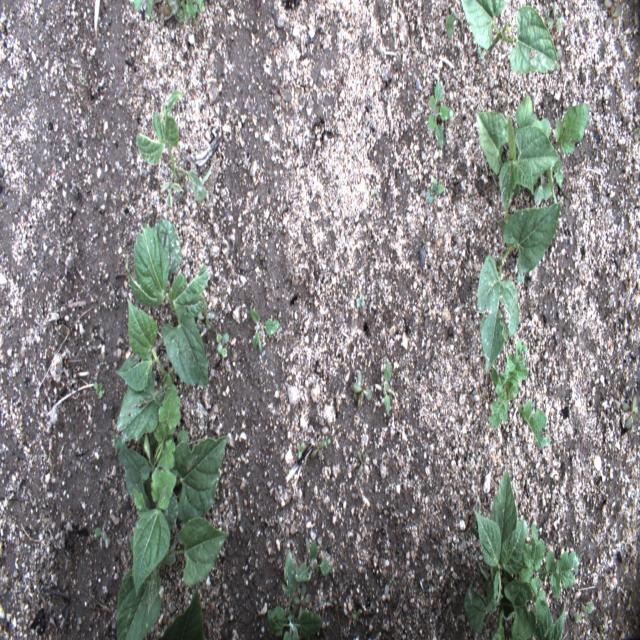crop: (110, 428, 228, 639), (478, 200, 561, 376), (124, 219, 209, 388), (464, 470, 536, 640), (136, 90, 222, 208), (474, 111, 560, 216), (115, 298, 169, 446), (460, 0, 560, 74), (160, 587, 203, 639), (534, 597, 565, 639)
weed: (512, 95, 591, 211), (488, 341, 550, 452), (518, 521, 580, 613), (267, 551, 324, 639), (152, 376, 188, 510), (425, 79, 455, 152), (295, 535, 332, 583), (250, 310, 281, 352), (374, 359, 396, 414), (352, 368, 373, 411), (176, 0, 206, 24), (293, 583, 310, 620), (196, 300, 217, 329), (622, 394, 638, 430), (604, 2, 622, 33), (272, 85, 293, 108), (576, 601, 596, 624), (445, 7, 459, 39), (545, 6, 562, 32), (133, 1, 153, 20), (470, 501, 480, 538), (309, 439, 325, 460), (430, 177, 446, 196), (216, 331, 228, 356), (94, 518, 107, 541), (426, 185, 440, 206), (334, 584, 343, 614), (498, 214, 511, 232), (356, 451, 366, 473), (603, 0, 613, 20), (514, 266, 525, 284), (94, 381, 103, 399), (297, 441, 304, 459), (353, 607, 362, 621), (356, 295, 364, 308)
